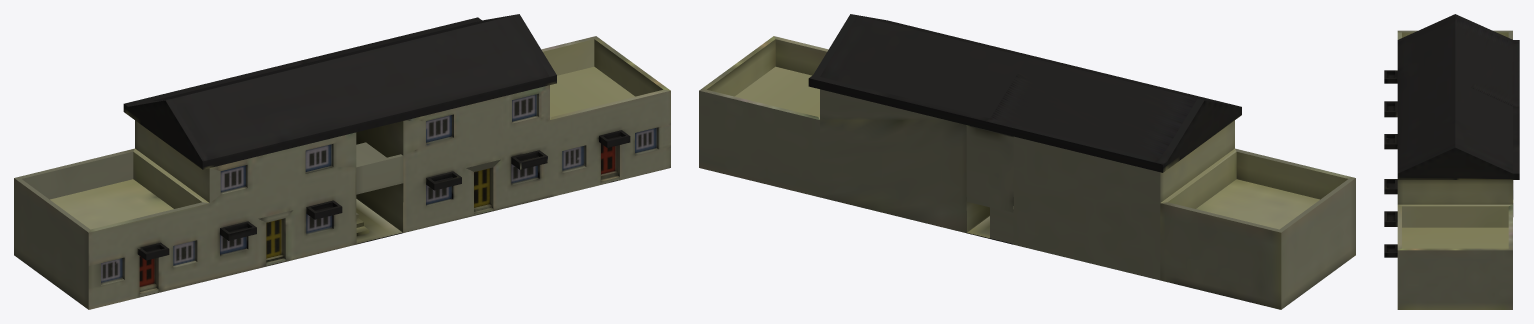
The model's file is quaters.glb.
3 views of the same model, side by side, from view 1: azimuth 30°, elevation 25°; view 2: azimuth 150°, elevation 25°; view 3: azimuth 270°, elevation 25° (orthographic). The views are drawn at different scales.
Visible parts, largest first — view 1: building; view 2: building; view 3: building.
Part boxes in pixels (x1,y1,x2,y2): building: (14, 14, 670, 309); building: (699, 14, 1355, 309); building: (1384, 14, 1519, 309).
Bounding box in the file's own units: 89.86 × 22.78 × 23.39.
1 material, 1 textured.
